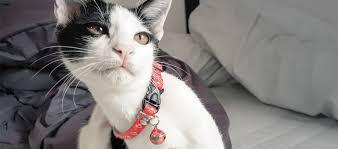Cat: (55, 0, 172, 84)
